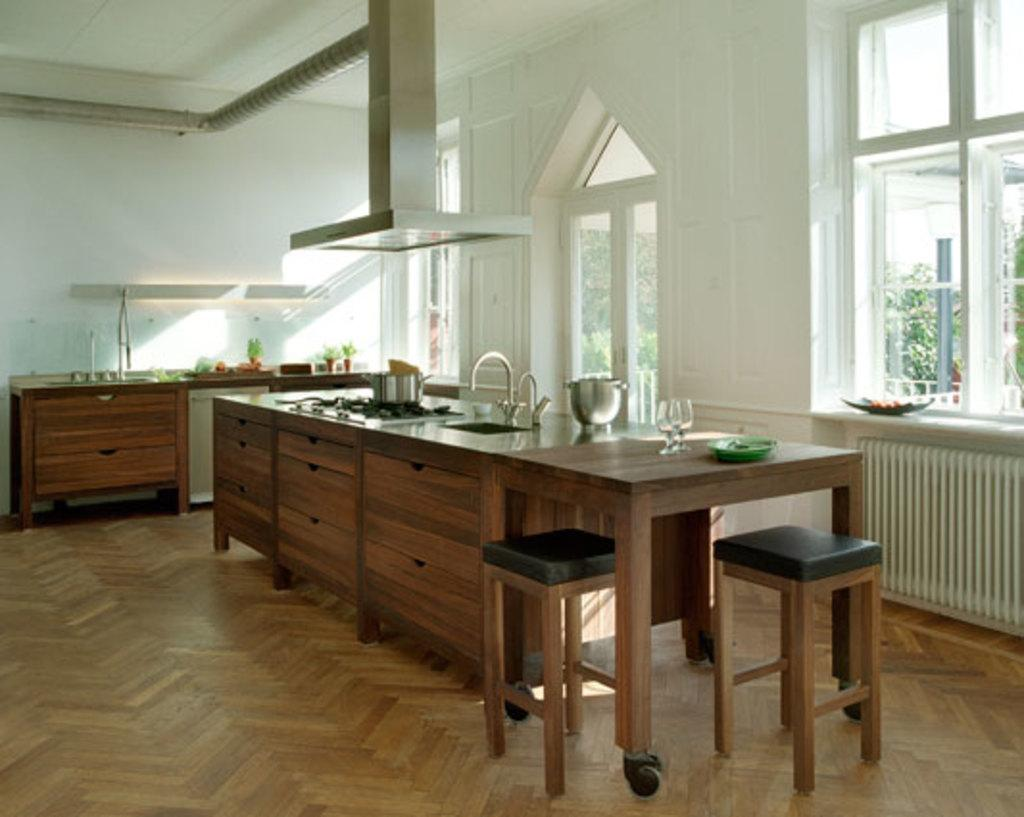cabinet_door: (367, 443, 491, 512), (382, 530, 478, 608), (42, 396, 162, 430), (44, 439, 157, 471), (295, 509, 361, 562), (286, 452, 352, 495), (220, 476, 280, 518), (224, 409, 274, 440), (284, 427, 347, 450), (222, 440, 264, 472)
handle: (408, 549, 426, 579), (91, 442, 119, 460), (98, 392, 120, 414), (406, 458, 428, 478), (306, 504, 320, 534), (302, 432, 322, 449), (236, 433, 253, 451), (232, 412, 247, 430), (302, 455, 318, 471), (235, 479, 249, 497)
